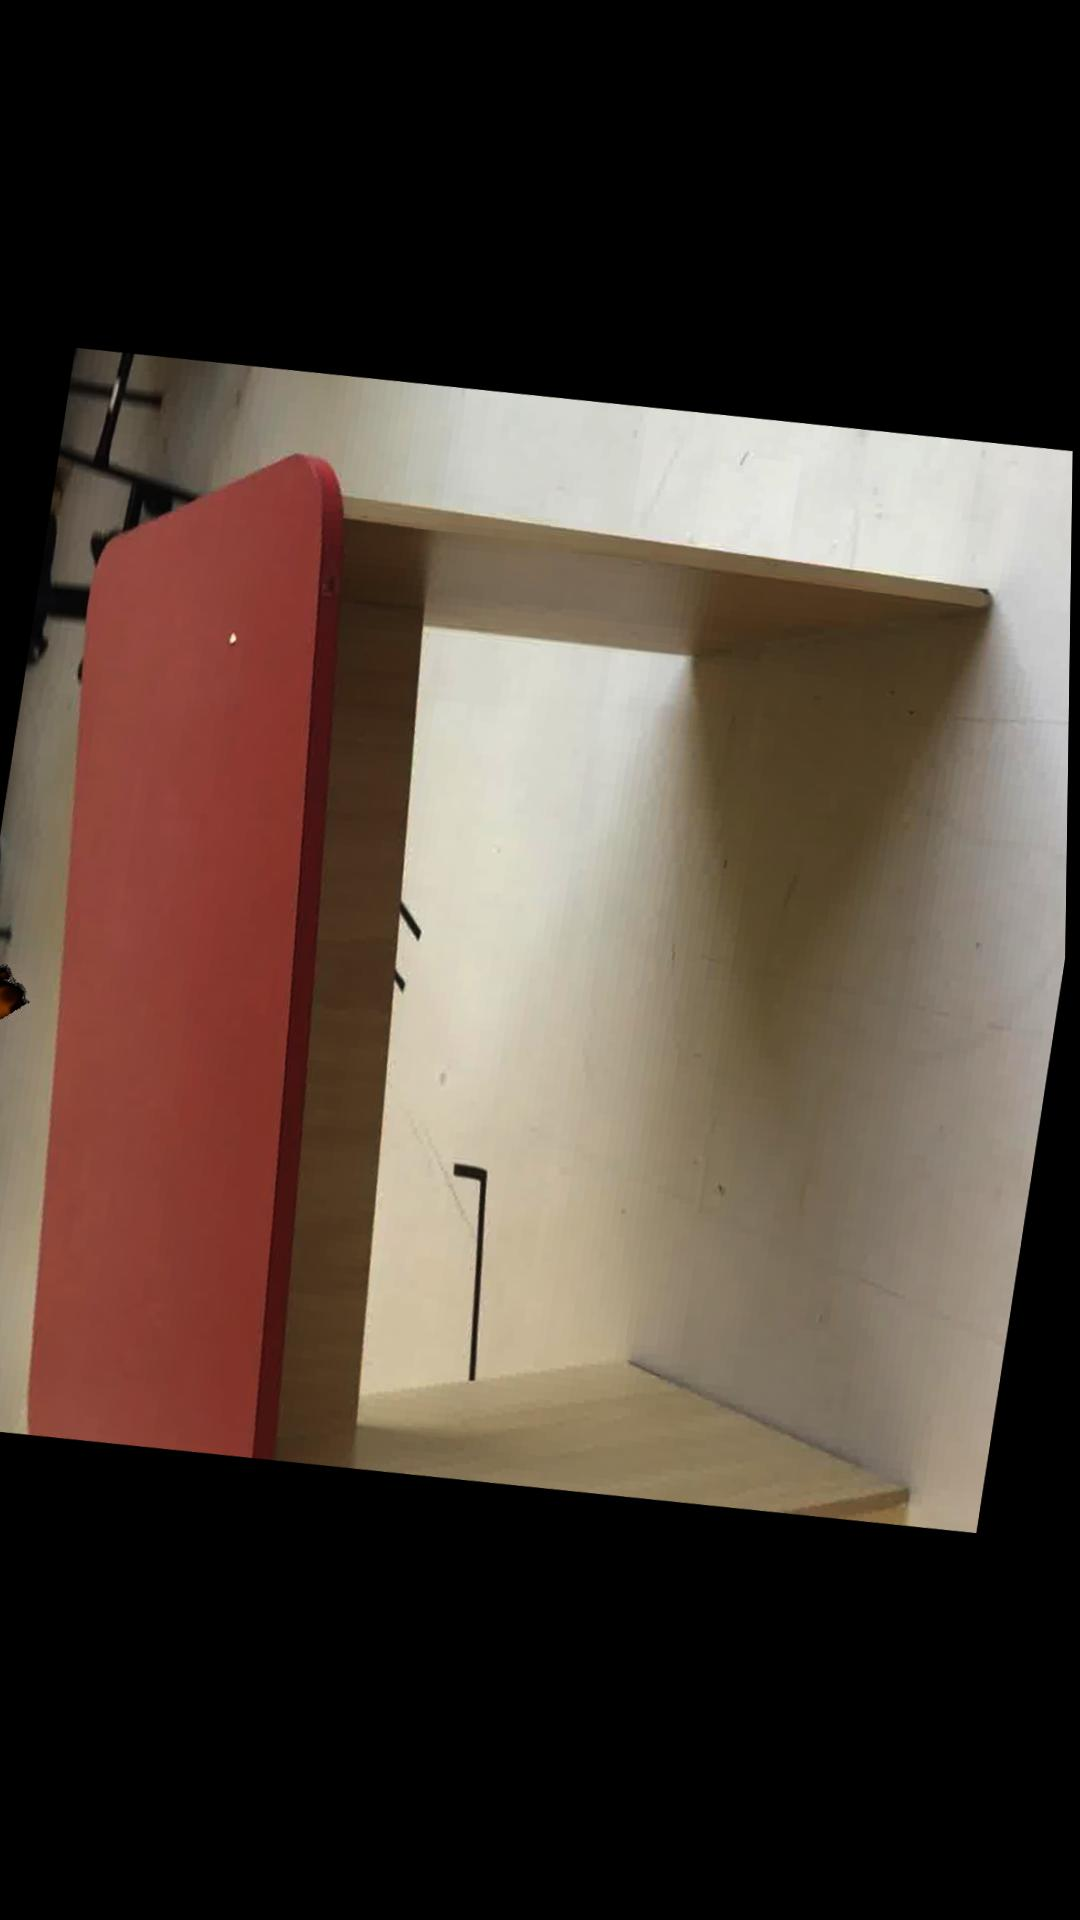guarana: (0, 967, 30, 1021)
